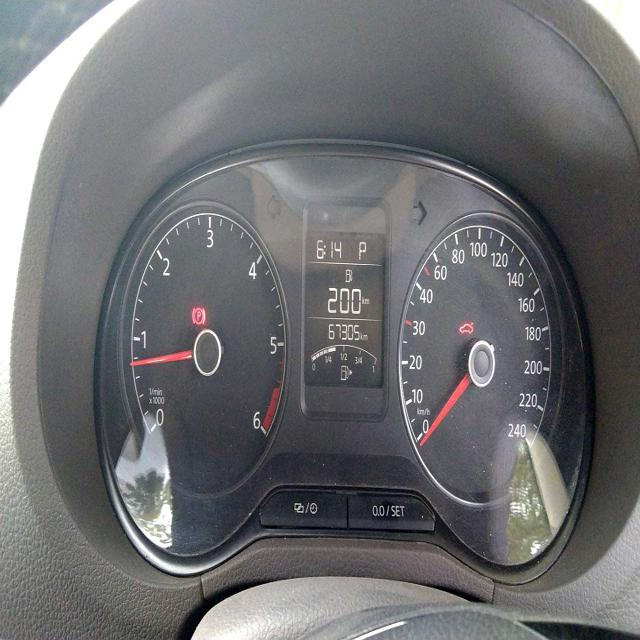odometer: (327, 320, 360, 344)
